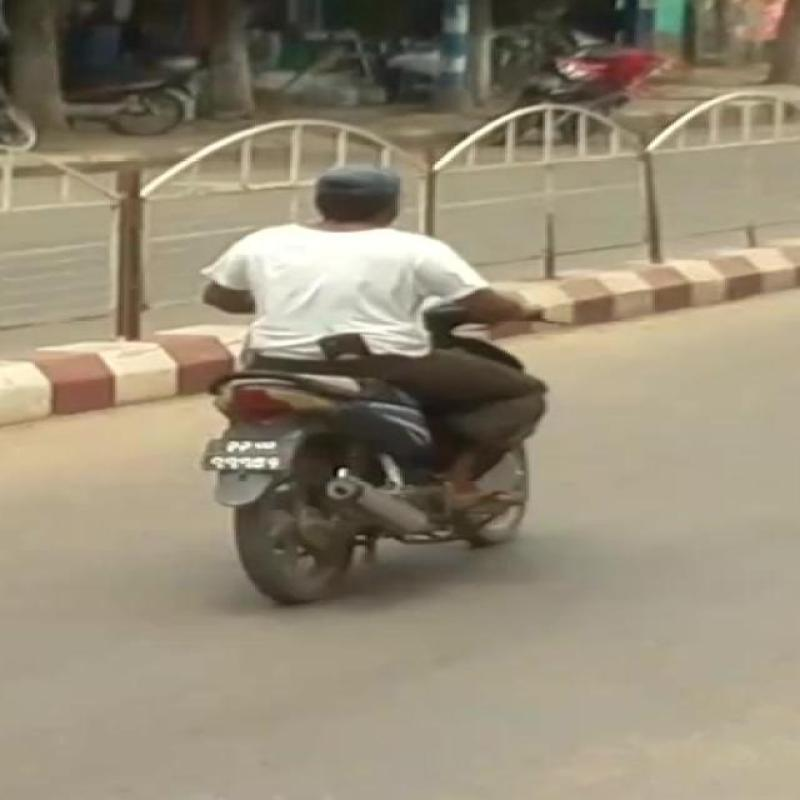nohelmet: (296, 164, 442, 240)
